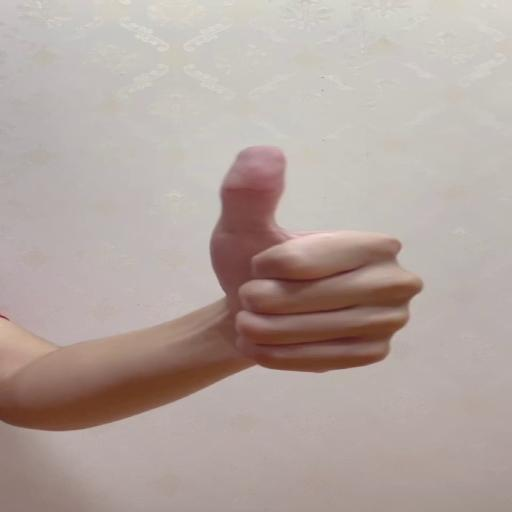thumbs_up: (206, 143, 428, 372)
